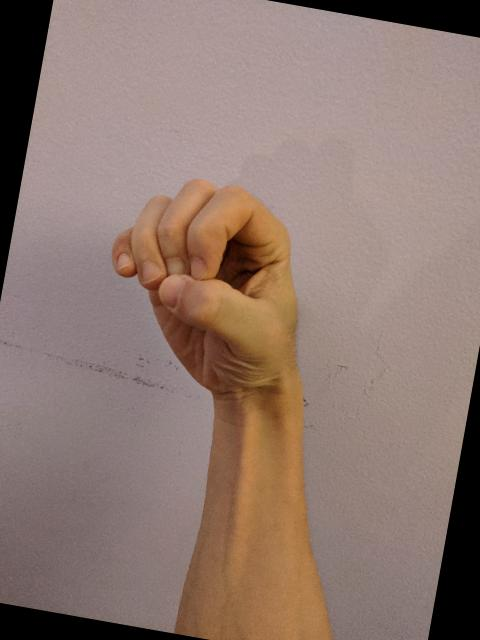O: (86, 162, 324, 410)
